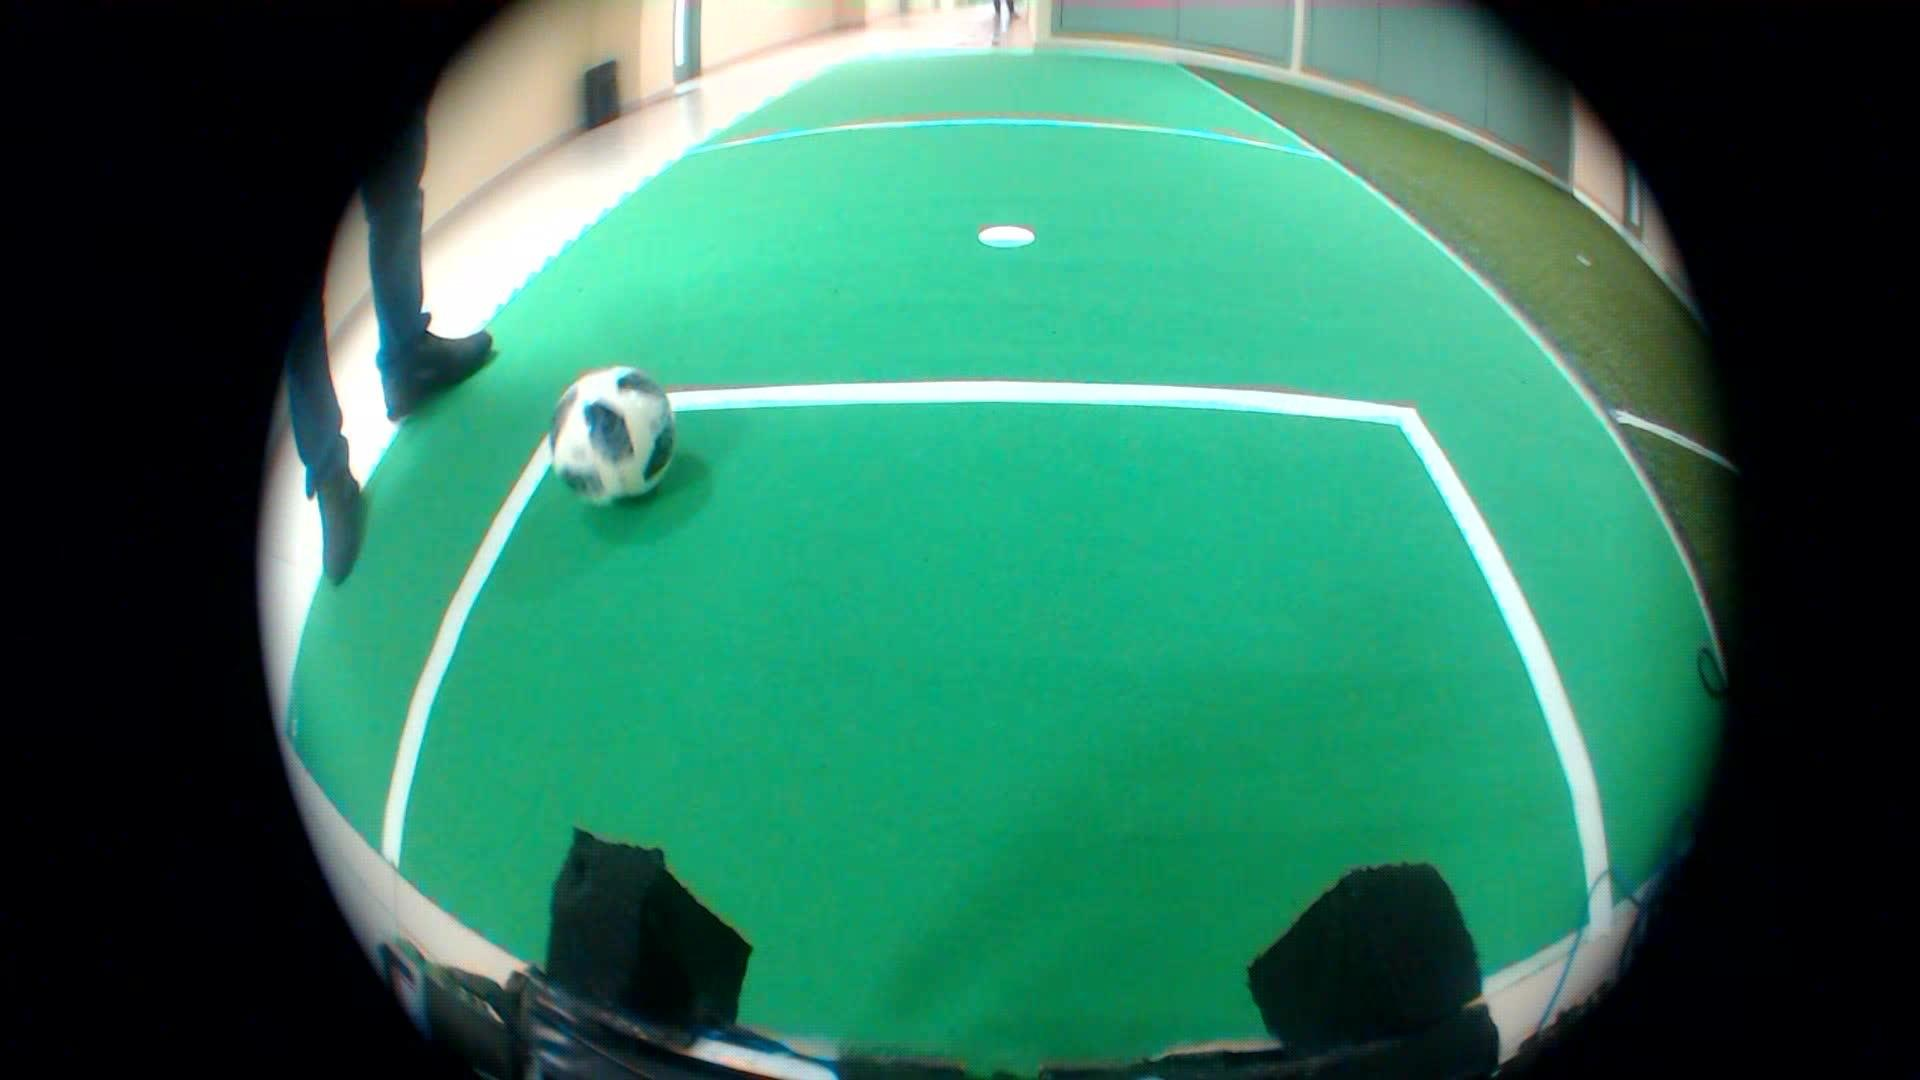ball: (533, 367, 682, 516)
